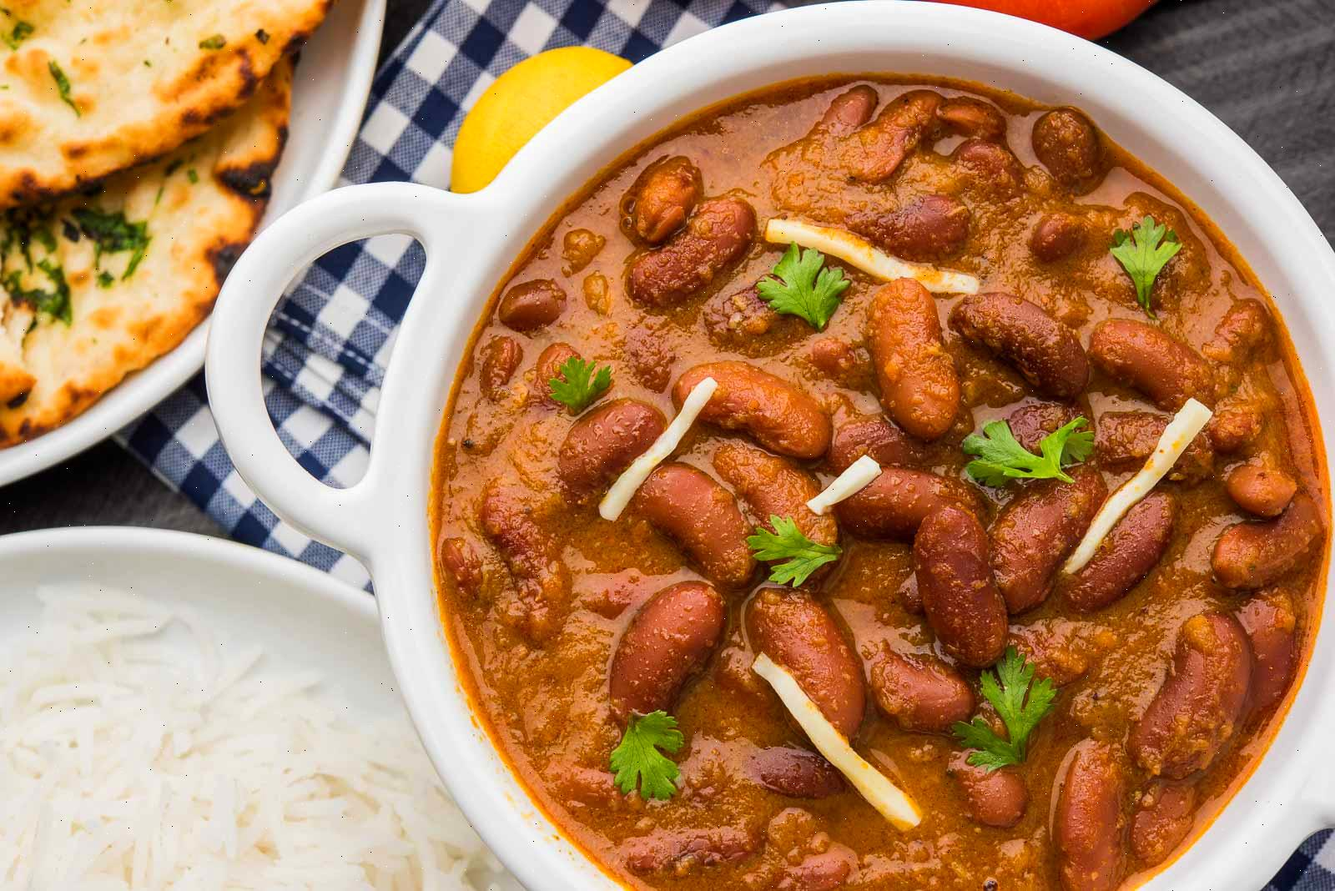rajma: (515, 79, 1327, 891)
